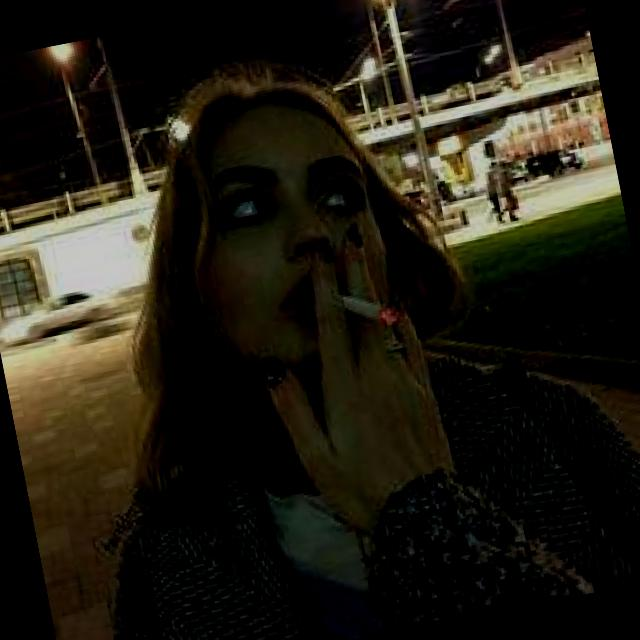smoke: (306, 256, 436, 361)
